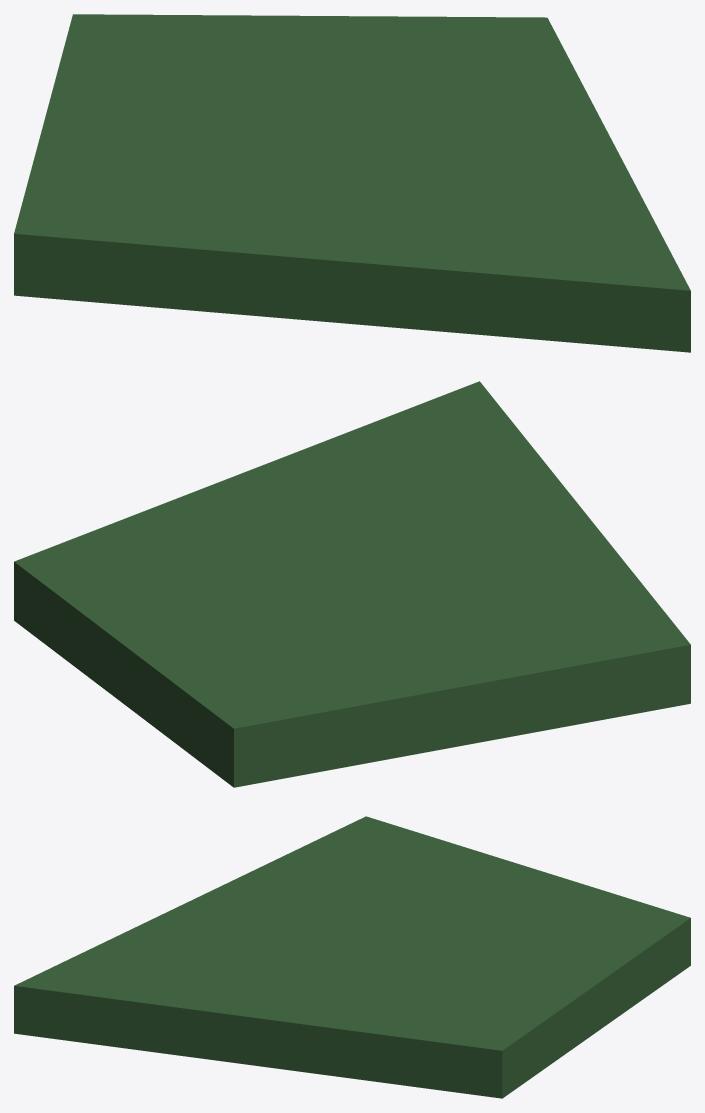
Rendered from x_proval_00_120_1_rmstrd.fbx.
3 renders of one model, top to bottom at view 1: azimuth 30°, elevation 25°; view 2: azimuth 150°, elevation 25°; view 3: azimuth 270°, elevation 25°, orthographic. The views are drawn at different scales.
Parts seen in each view (by area): view 1: x_proval_00_120_1_rmstrd1; view 2: x_proval_00_120_1_rmstrd1; view 3: x_proval_00_120_1_rmstrd1.
Boxes of the visible parts, <box> form: x_proval_00_120_1_rmstrd1: <box>14,14,690,352</box>; x_proval_00_120_1_rmstrd1: <box>14,381,690,787</box>; x_proval_00_120_1_rmstrd1: <box>14,816,690,1098</box>.
Bounding box in the file's own units: 2.1 × 0.2 × 2.57.
